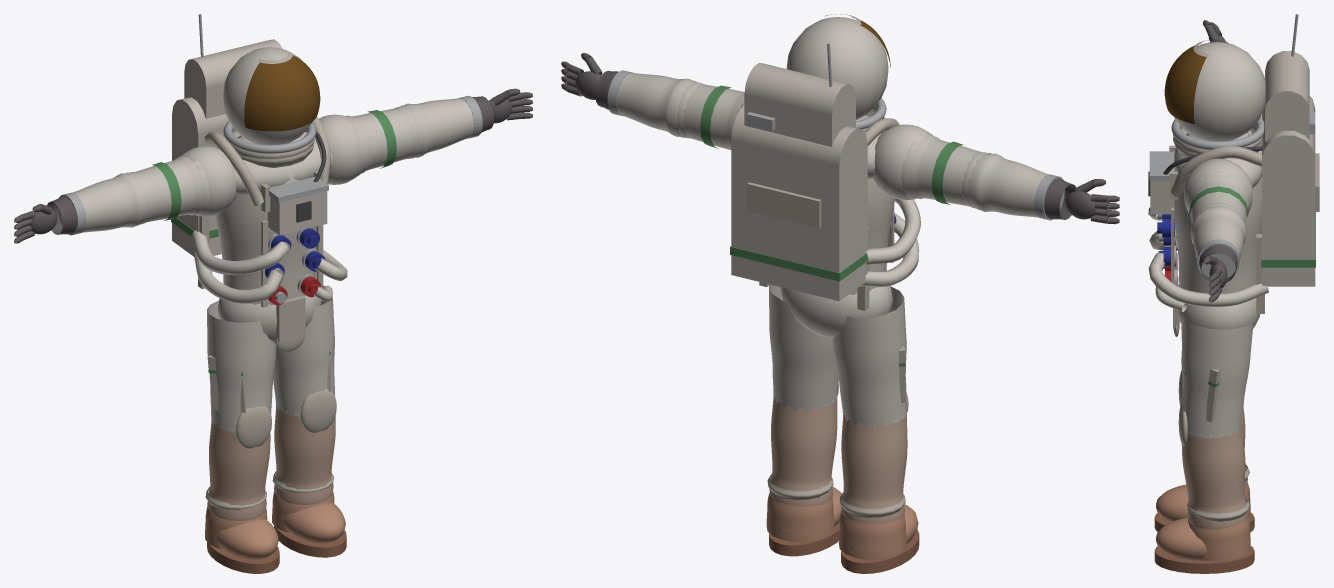
File: C01_colonist_tpose_green.glb
3 views of the same model, side by side, from view 1: azimuth 30°, elevation 25°; view 2: azimuth 150°, elevation 25°; view 3: azimuth 270°, elevation 25° (orthographic). The views are drawn at different scales.
Parts seen in each view (by area): view 1: thigh, knee_patch, shin, unit_top, unit, boot_shaft, pocket_stripe, oxygen_hose, gauntlet, suit_connector; view 2: thigh, unit, shin, boot_shaft, knee_patch, pocket_stripe, gauntlet, oxygen_hose, unit_top; view 3: thigh, unit, shin, unit_top, knee_patch, boot_shaft, pocket_stripe, oxygen_hose, gauntlet, suit_connector.
Part boxes in pixels (bbox=[...]): thigh: bbox=[73, 47, 474, 432]; knee_patch: bbox=[198, 52, 336, 509]; shin: bbox=[207, 404, 335, 520]; unit_top: bbox=[58, 14, 482, 303]; unit: bbox=[172, 39, 327, 256]; boot_shaft: bbox=[205, 491, 345, 559]; pocket_stripe: bbox=[152, 110, 396, 573]; oxygen_hose: bbox=[191, 230, 347, 304]; gauntlet: bbox=[14, 88, 532, 243]; suit_connector: bbox=[265, 228, 325, 305]; thigh: bbox=[616, 17, 1048, 427]; unit: bbox=[731, 63, 867, 301]; shin: bbox=[769, 397, 907, 523]; boot_shaft: bbox=[766, 487, 918, 559]; knee_patch: bbox=[747, 14, 908, 517]; pocket_stripe: bbox=[700, 85, 962, 573]; gauntlet: bbox=[561, 53, 1119, 224]; oxygen_hose: bbox=[860, 198, 920, 287]; unit_top: bbox=[607, 17, 1064, 230]; thigh: bbox=[1173, 42, 1265, 438]; unit: bbox=[1150, 51, 1315, 286]; shin: bbox=[1181, 407, 1247, 529]; unit_top: bbox=[1149, 14, 1315, 285]; knee_patch: bbox=[1169, 40, 1319, 521]; boot_shaft: bbox=[1156, 482, 1250, 561]; pocket_stripe: bbox=[1148, 146, 1315, 573]; oxygen_hose: bbox=[1148, 207, 1268, 311]; gauntlet: bbox=[1199, 20, 1237, 302]; suit_connector: bbox=[1157, 214, 1177, 285].
Bounding box in the file's own units: 2.17 × 2.02 × 0.6101.
